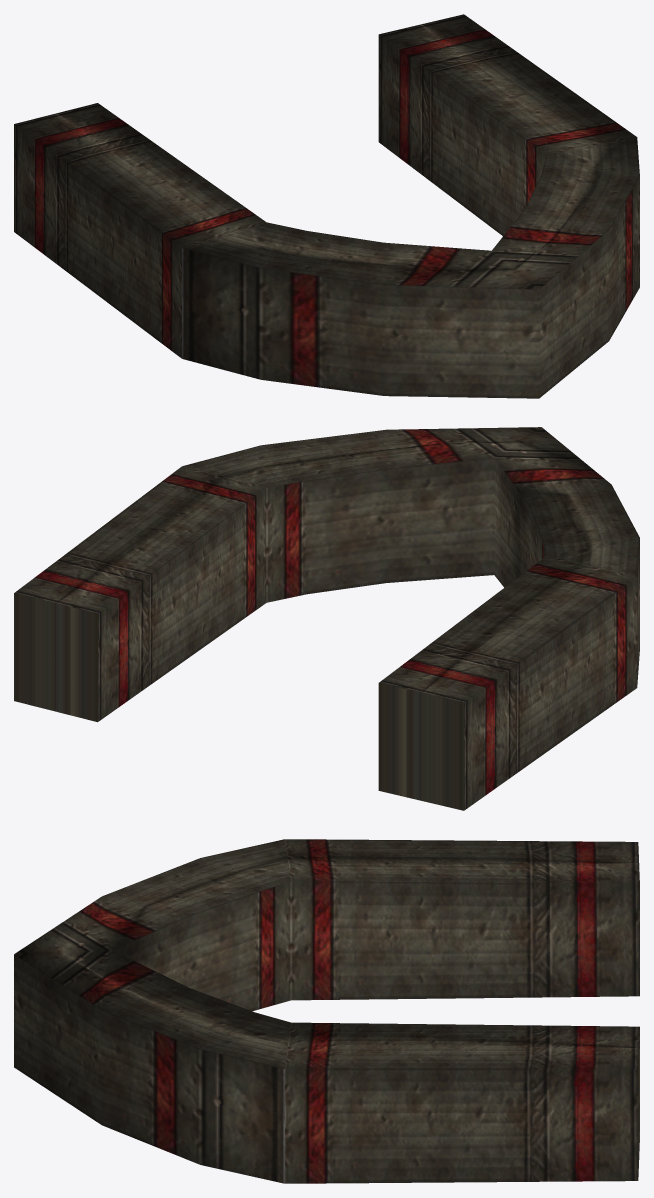
The model's file is gate_11.obj.
3 renders of one model, top to bottom at view 1: azimuth 30°, elevation 25°; view 2: azimuth 150°, elevation 25°; view 3: azimuth 270°, elevation 25°, orthographic. The views are drawn at different scales.
Parts seen in each view (by area): view 1: (null); view 2: (null); view 3: (null).
Part boxes in pixels (x1,y1,x2,y2): (null): [14, 14, 639, 398]; (null): [14, 427, 639, 810]; (null): [14, 839, 639, 1183].
Bounding box in the file's own units: 2.24 × 0.5513 × 2.58.
